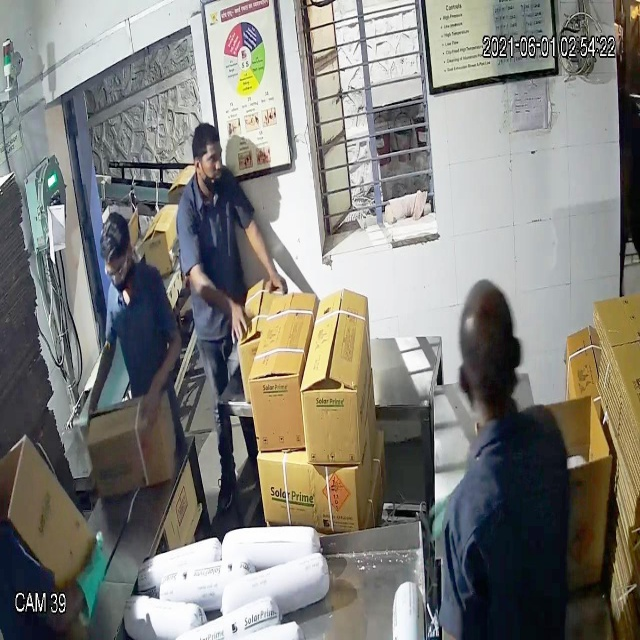Gafas: (101, 248, 134, 291)
